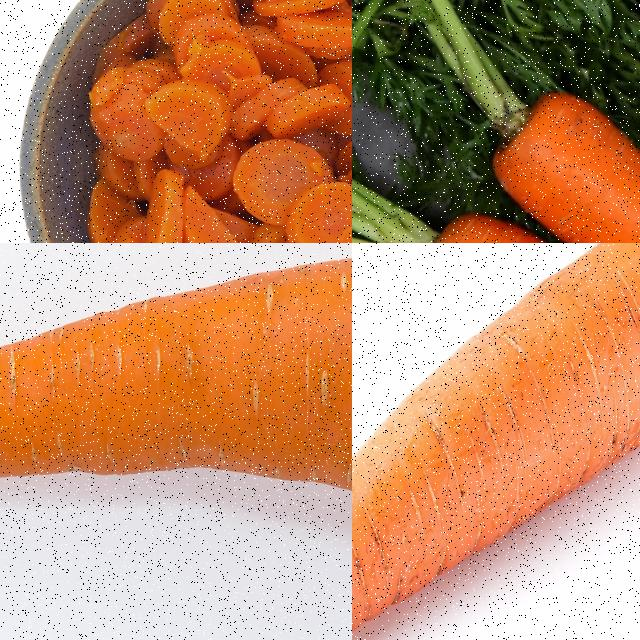carrot: (352, 243, 639, 639), (0, 243, 351, 533), (53, 0, 351, 242), (486, 88, 639, 242)
